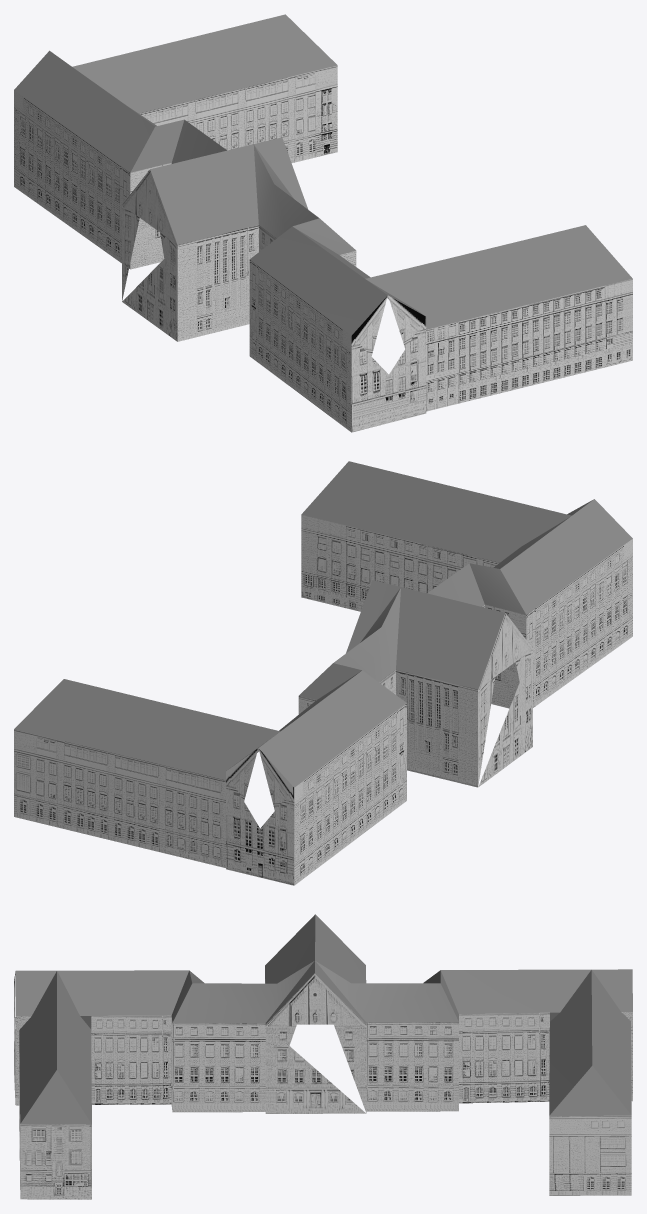
Rendered from Fritz-Foester-Bau.gltf.
3 views of the same model, one above another, from view 1: azimuth 30°, elevation 25°; view 2: azimuth 150°, elevation 25°; view 3: azimuth 270°, elevation 25° (orthographic). The views are drawn at different scales.
Visible parts, largest first — view 1: Dach.1; view 2: Dach.1; view 3: Dach.1.
Part boxes in pixels (x1,y1,x2,y2): Dach.1: (14,14,632,432); Dach.1: (14,461,632,885); Dach.1: (14,914,632,1199).
Size of the model in its own units: 67.71 by 30.51 by 122.
21 materials, 20 textured.
